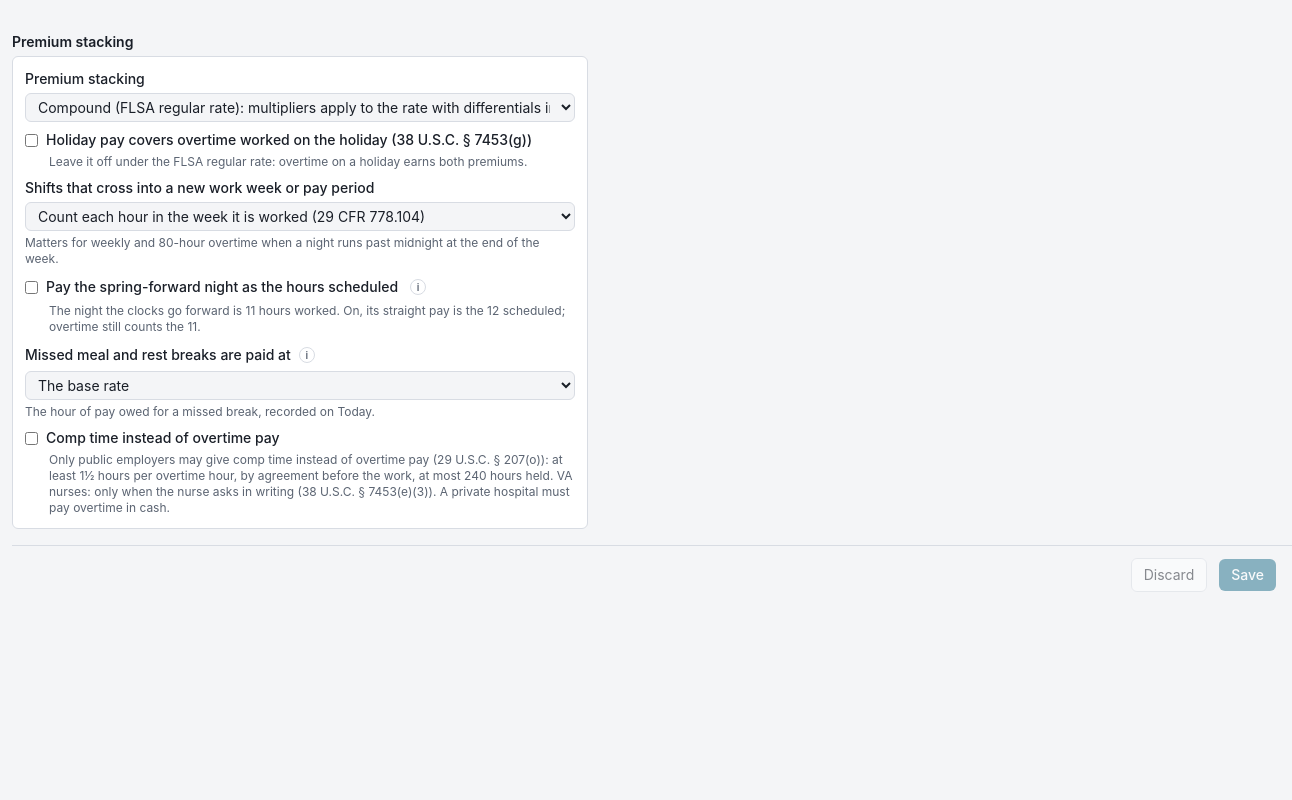
Scenario: comp time in Settings › Pay › will not save with comp time switched on and the rate left blank
The image size is (1292, 800).
Step 1. Click the checkbox labelled "Comp time instead of overtime pay" → (32, 438), box left=25, top=432, right=38, bottom=444
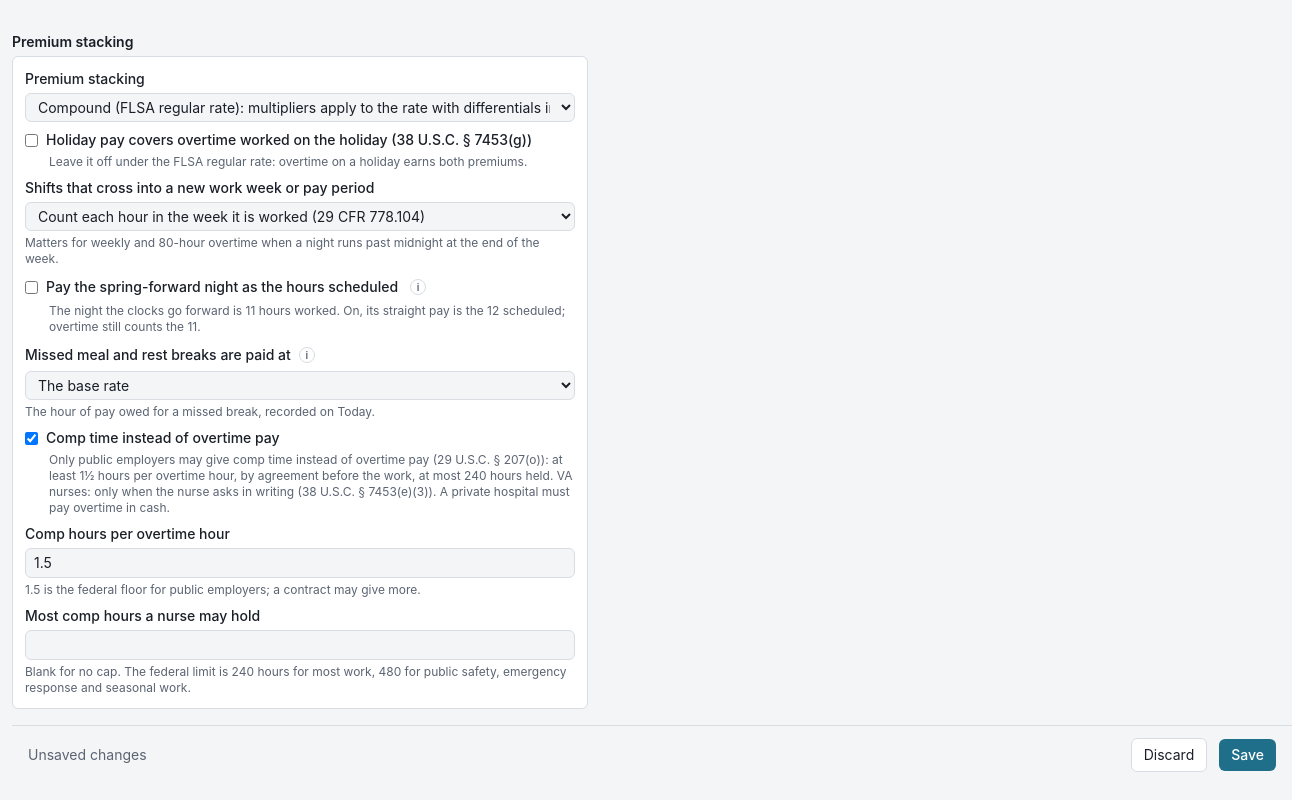
Step 2. Clear the number field labelled "Comp hours per overtime hour" → (300, 563), box left=25, top=548, right=575, bottom=578
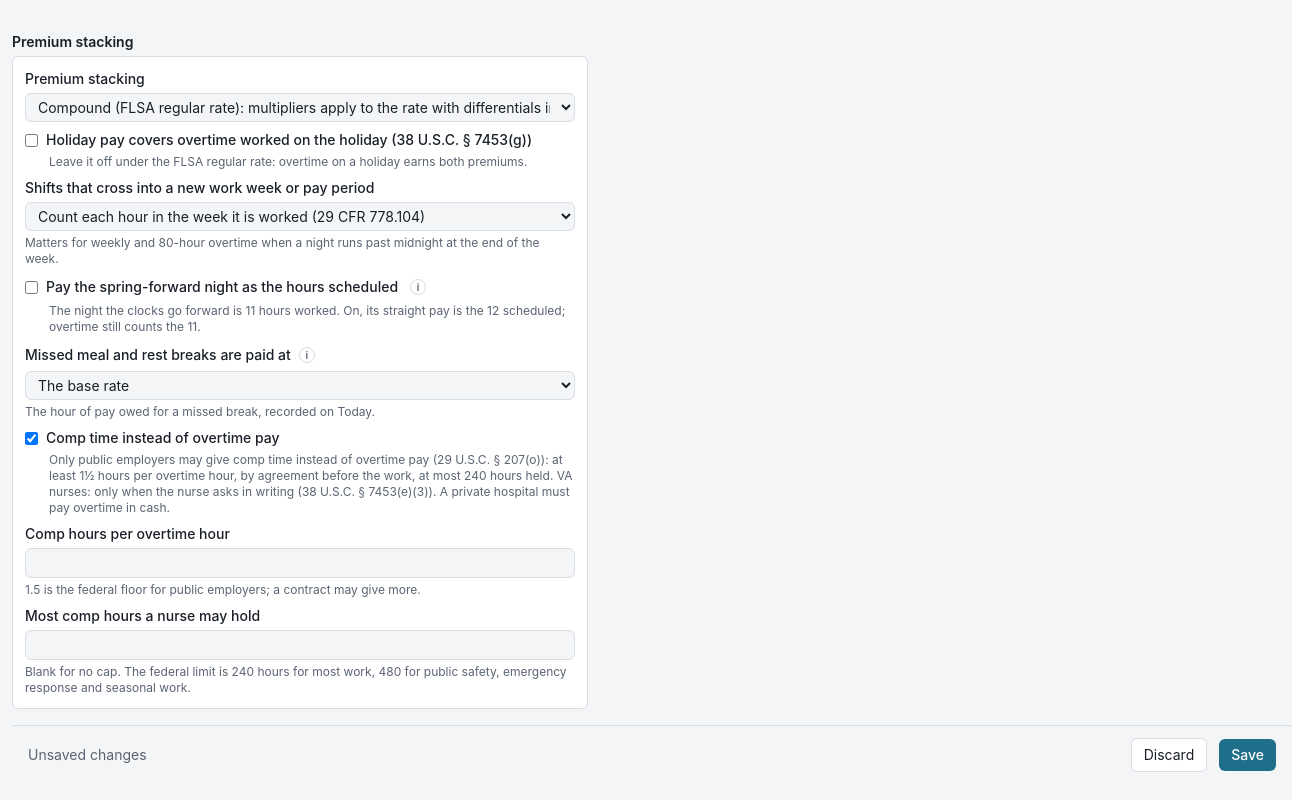
Step 3. Leave the number field labelled "Comp hours per overtime hour", box left=25, top=548, right=575, bottom=578
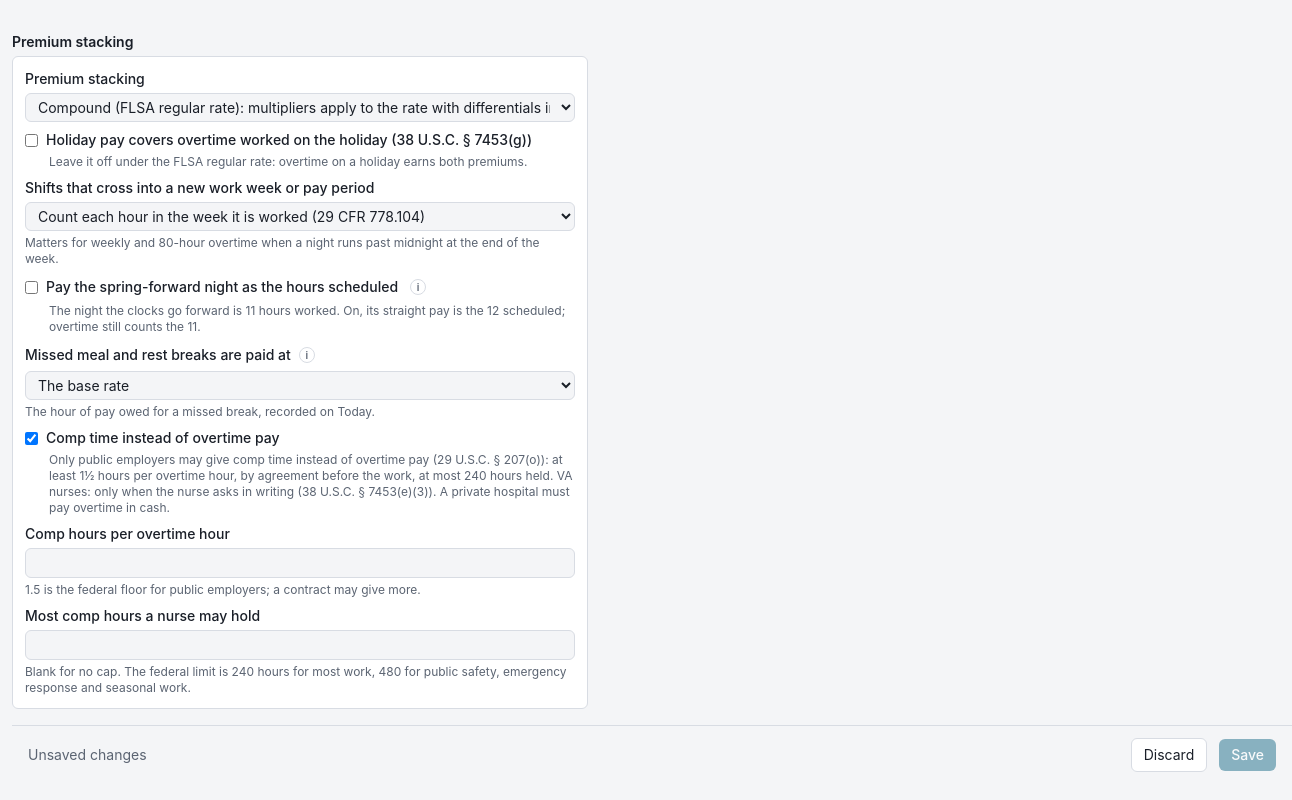
Result: the button "Save" is disabled at left=1219, top=739, right=1276, bottom=771
